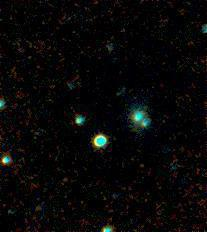star: (103, 79, 133, 109)
